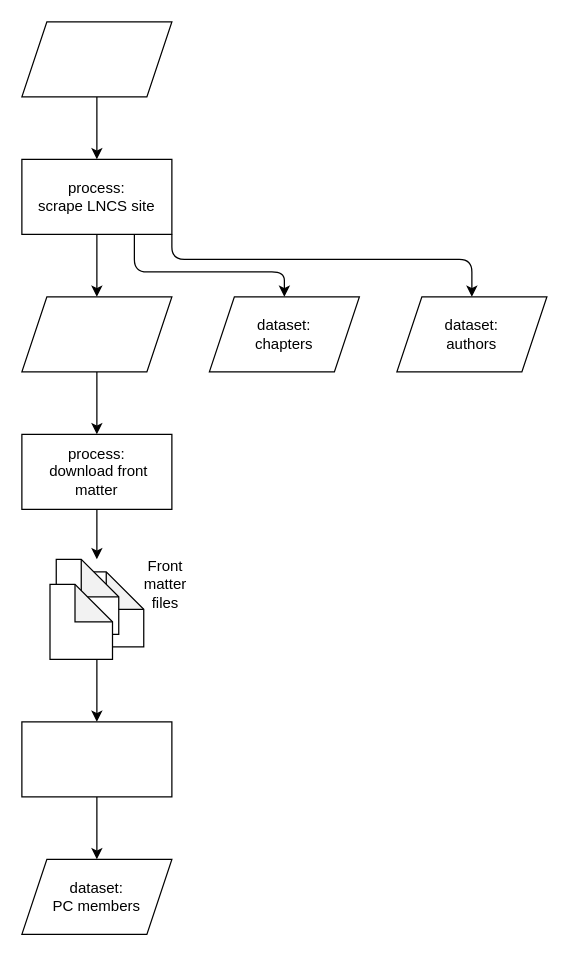
The diagram is 569 pixels wide and 956 high, and some of its shapes have lost their labels. The box of each missing label's shape, as (x1, y1, x2, y2) in pixels:
dataset: books: (21, 296, 172, 372)
dataset: proceedings: (21, 21, 172, 97)
process: parse front matter files: (21, 721, 172, 797)
